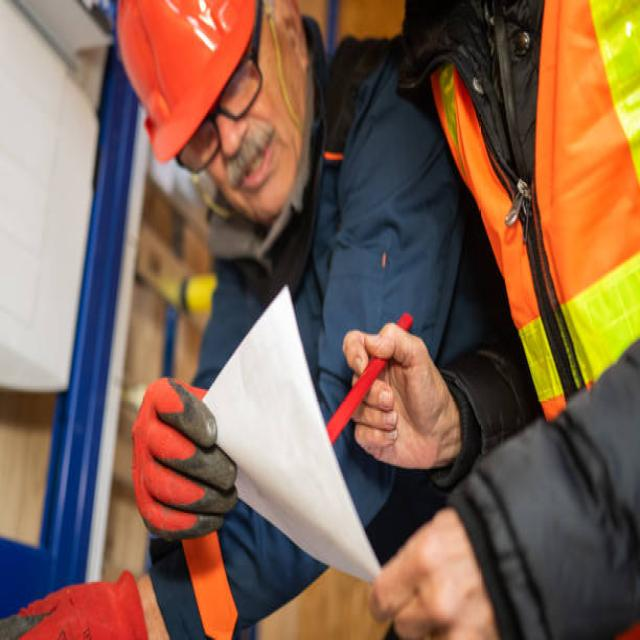Gloves: (127, 369, 244, 549), (0, 564, 155, 640)
Vest: (423, 0, 640, 425)
helmet: (116, 0, 272, 163)
person: (110, 0, 506, 640), (350, 0, 640, 640)
